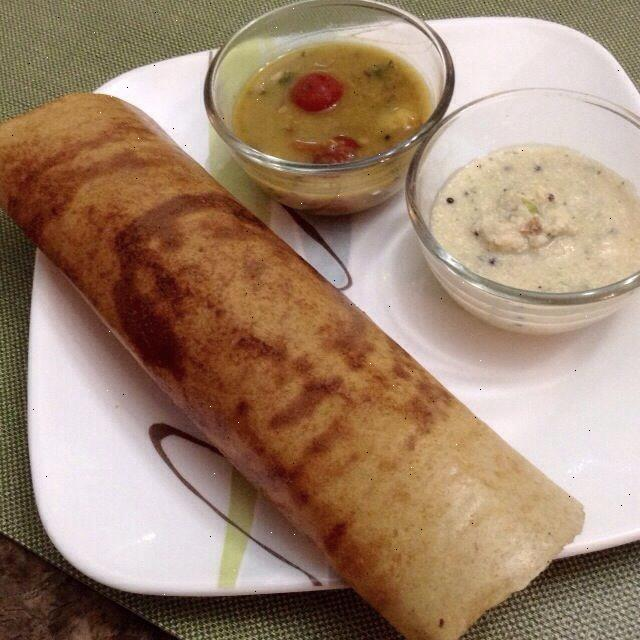dosa: (0, 111, 589, 636)
